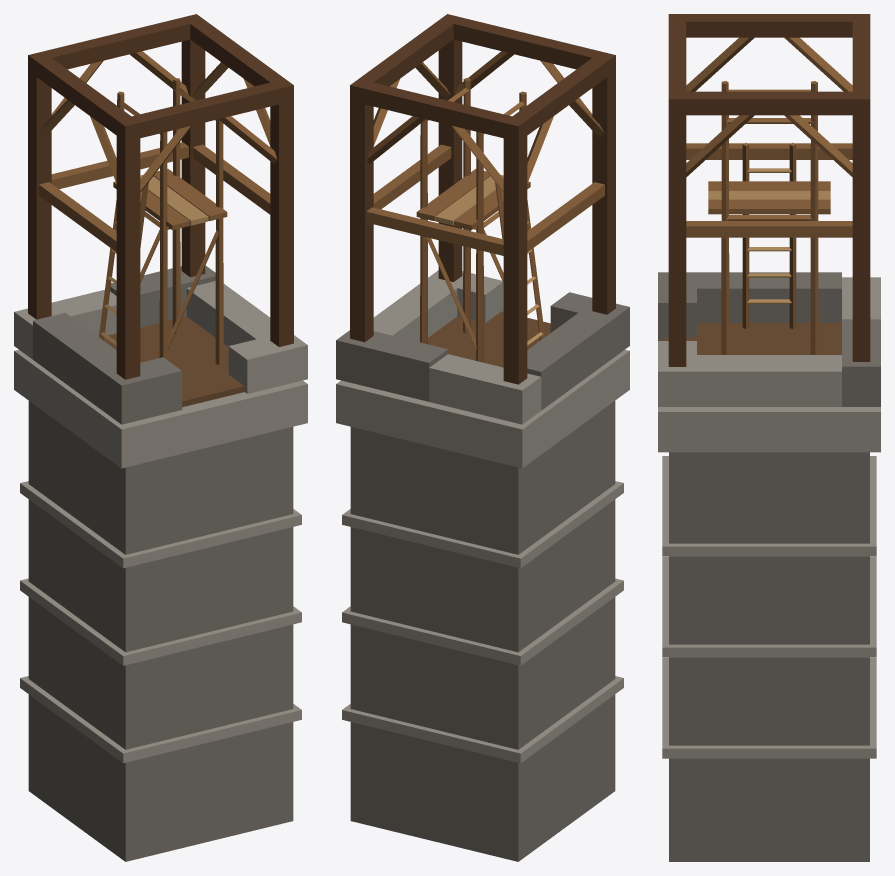
The model's file is site_2x2_2.glb.
The picture shows the model from 3 angles, left to right: view 1: azimuth 30°, elevation 25°; view 2: azimuth 150°, elevation 25°; view 3: azimuth 270°, elevation 25°; orthographic projection. The views are drawn at different scales.
Visible parts, largest first — view 1: site_2x2_2; view 2: site_2x2_2; view 3: site_2x2_2.
Boxes of the visible parts, bbox=[...] form: site_2x2_2: bbox=[14, 14, 307, 861]; site_2x2_2: bbox=[336, 14, 629, 861]; site_2x2_2: bbox=[658, 14, 880, 861].
Size of the model in its own units: 2 by 7.55 by 2.
